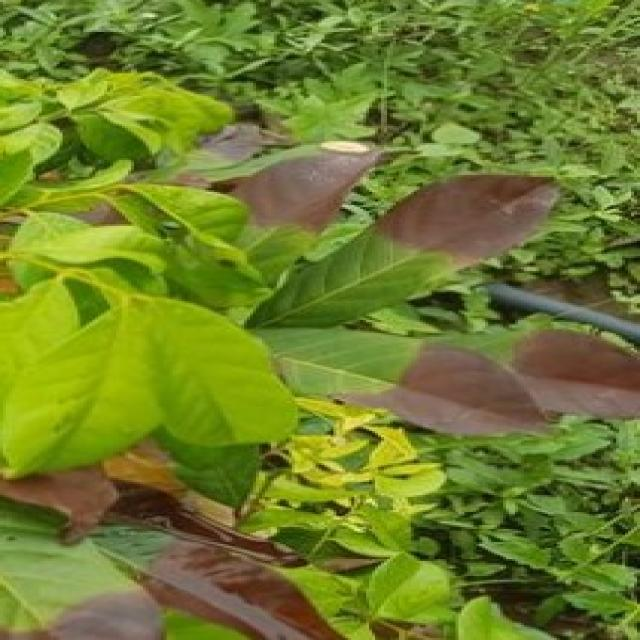Leaf Blight: (203, 113, 569, 275), (327, 301, 640, 461), (82, 535, 362, 640), (8, 479, 183, 527)
